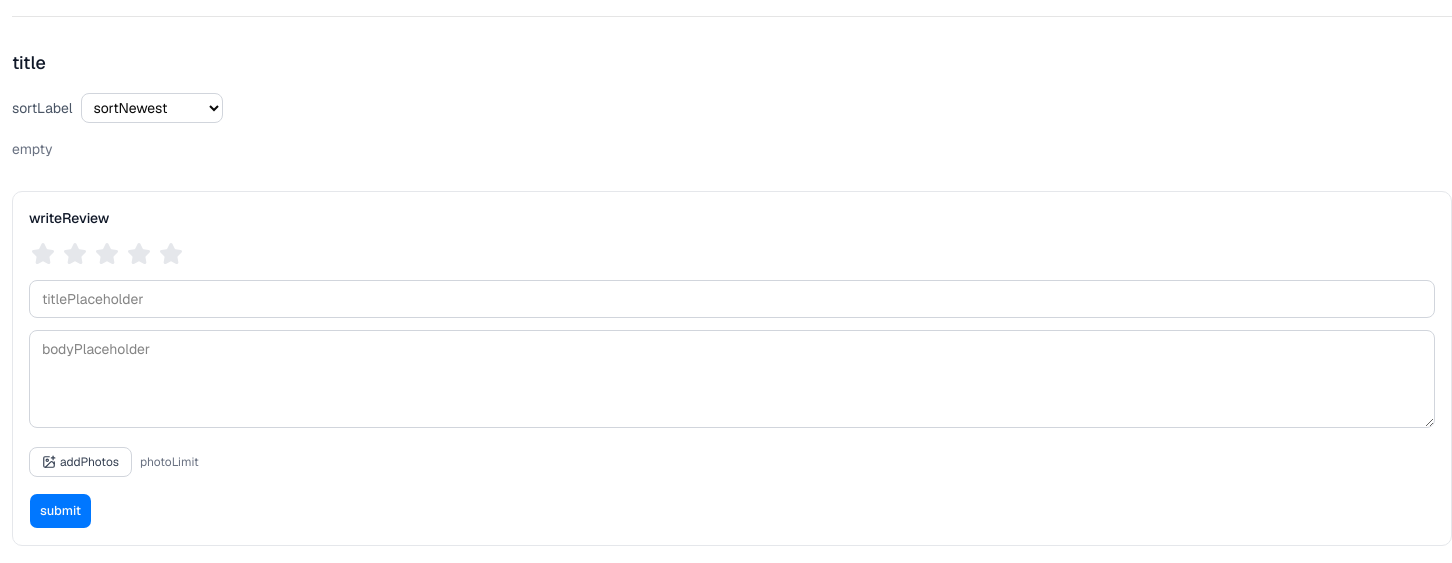
Scenario: ProductReviews › submits a review and shows the success message
Click the button named "5 stars". click: click(171, 254)
box: [157,240,185,268]
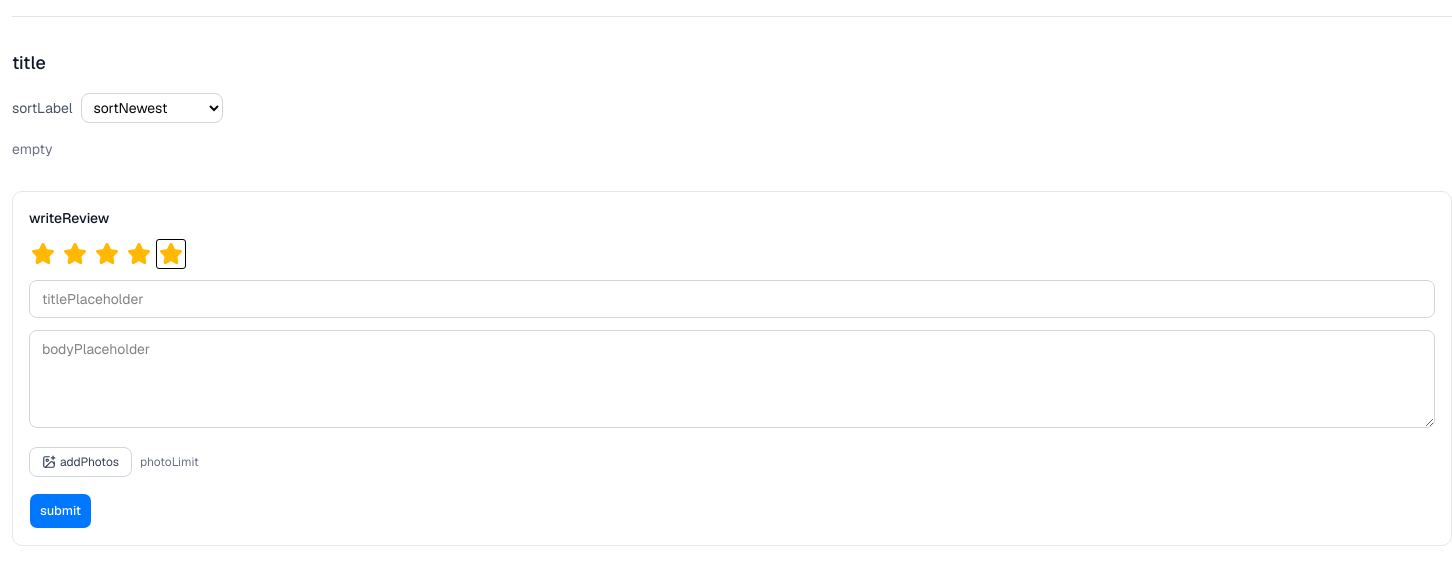
Type "Great" into the field with placeholder "titlePlaceholder". click: (732, 299)
box: [29,280,1435,318]
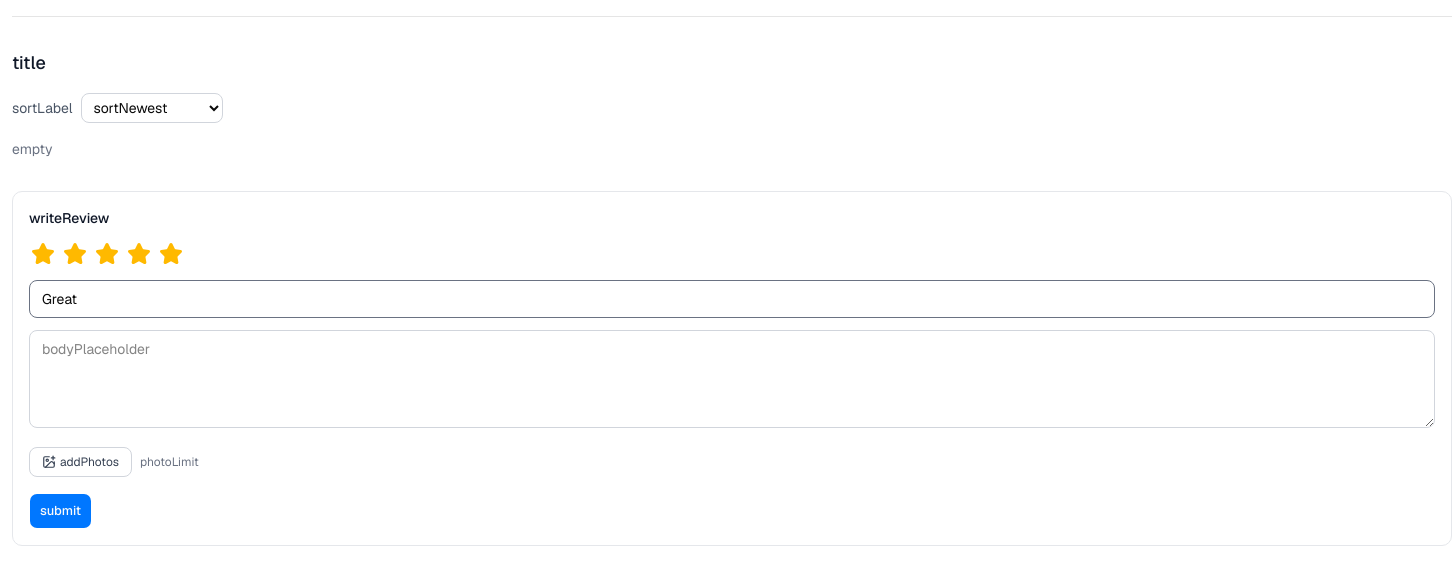
Click the button "submit". click: click(60, 511)
box: [29,493,92,529]
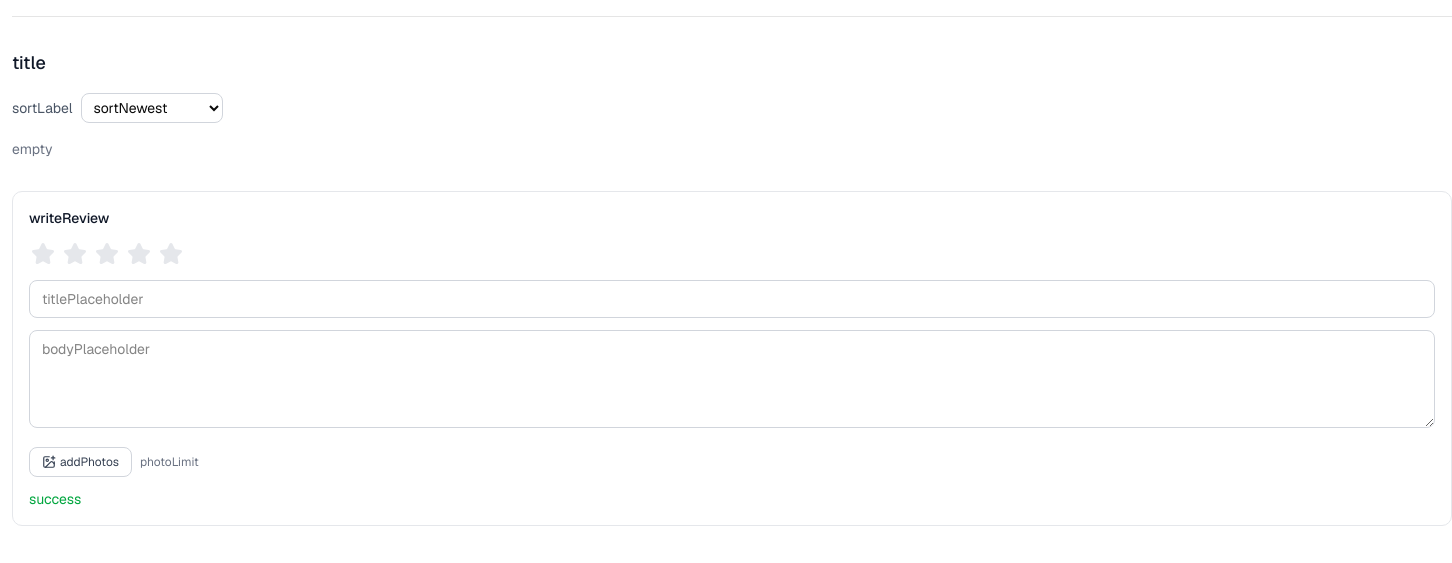
Now the text "success" is shown, box [29,490,81,508]
